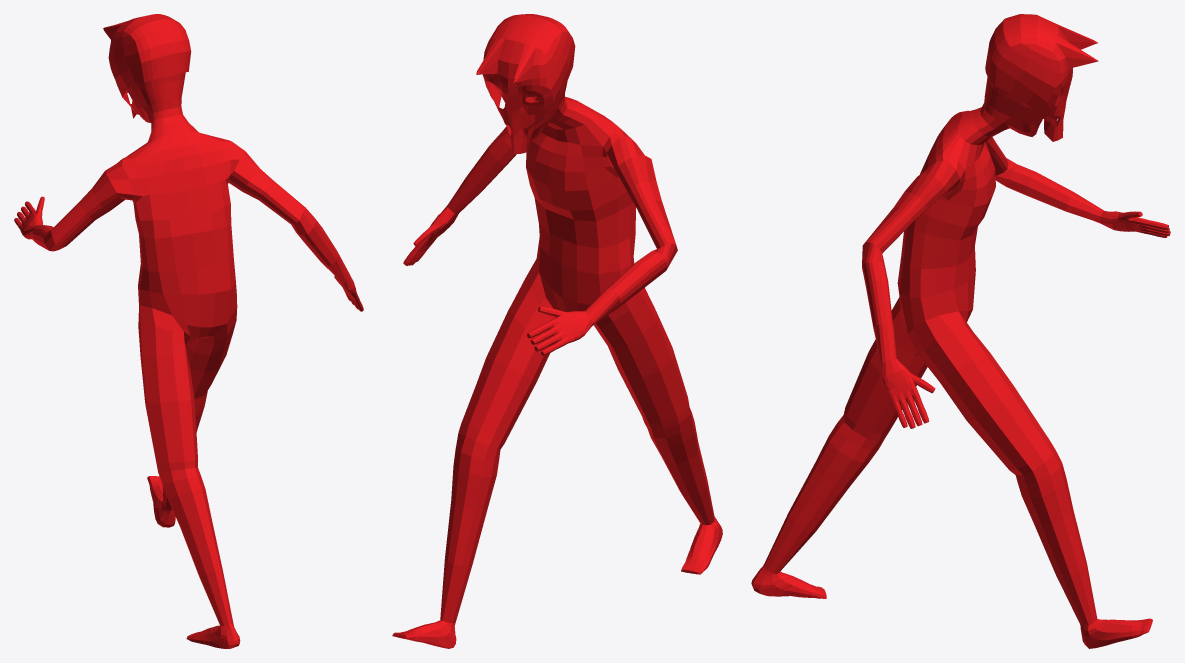
The model's file is marchaE_000052.obj.
The picture shows the model from 3 angles, left to right: view 1: azimuth 30°, elevation 25°; view 2: azimuth 150°, elevation 25°; view 3: azimuth 270°, elevation 25°; orthographic projection. The views are drawn at different scales.
Visible parts, largest first — view 1: Plane.002_Plane.001; view 2: Plane.002_Plane.001; view 3: Plane.002_Plane.001.
Part boxes in pixels (<box>): Plane.002_Plane.001: <box>14,14,363,648</box>; Plane.002_Plane.001: <box>392,14,722,648</box>; Plane.002_Plane.001: <box>751,14,1170,648</box>.
Bounding box in the file's own units: 3.42 × 6.5 × 4.1.
